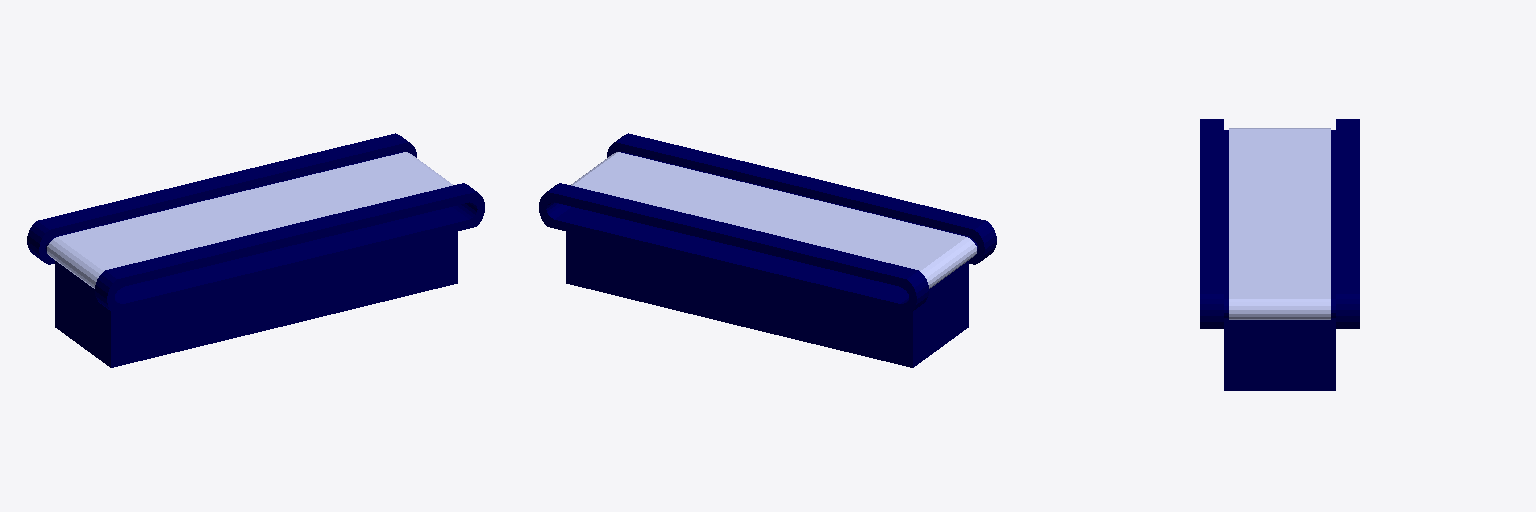
The model's file is blisterconveyor.obj.
3 renders of one model, left to right at view 1: azimuth 30°, elevation 25°; view 2: azimuth 150°, elevation 25°; view 3: azimuth 270°, elevation 25°, orthographic.
Visible parts, largest first — view 1: polySurface90; view 2: polySurface90; view 3: polySurface90.
Boxes of the visible parts, <box> form: polySurface90: <box>27,133,484,367</box>; polySurface90: <box>539,133,996,367</box>; polySurface90: <box>1200,119,1359,390</box>.
Size of the model in its own units: 17.16 by 4.32 by 6.3.